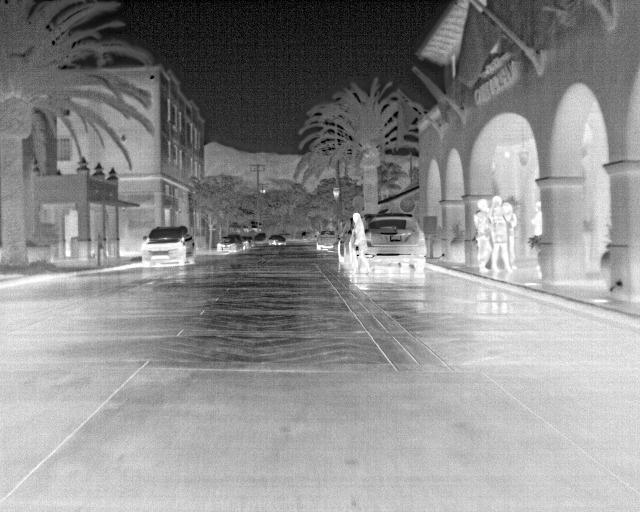bicycle: (365, 214, 429, 276), (140, 224, 196, 269), (216, 232, 247, 253), (315, 227, 339, 250), (252, 230, 268, 245)
empty: (485, 193, 515, 273), (351, 210, 373, 277), (473, 195, 491, 275), (499, 200, 519, 262), (529, 200, 543, 236)
